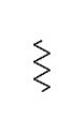resistor: (25, 34, 55, 92)
